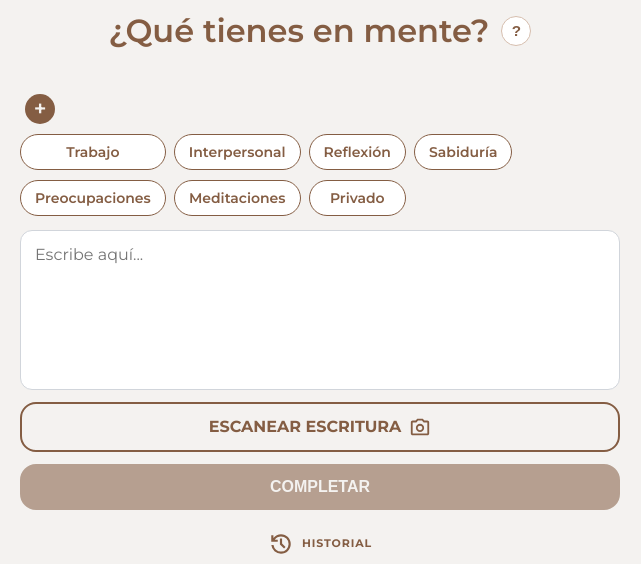
Test case: Journal handwriting capture gating › shows the Spanish scan label and localized chooser menu
The width and height of the screenshot is (641, 564).
Expected: the text "ESCANEAR ESCRITURA" is shown, [209,418,401,436]
Expected: the icon with class "journal-page__scan-icon" is shown, [409,416,431,438]
Click the button with aria-label "Escanear escritura a mano" at (320, 427), box [20,402,620,452]
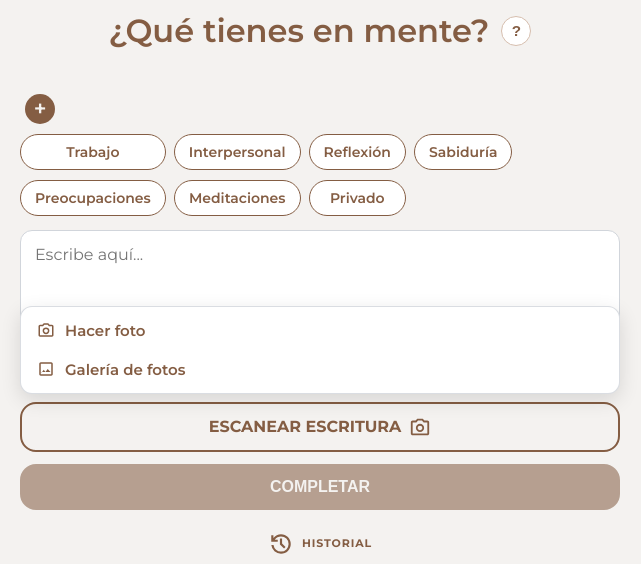
Expected: the menu named "Añadir imagen de escritura" is shown, [20,306,620,394]
Expected: the menu item with aria-label "Abrir cámara" is shown, [25,311,615,350]
Expected: the menu item with aria-label "Elegir de la galería" is shown, [25,350,615,389]
